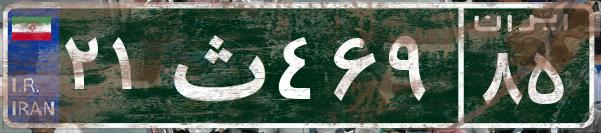1: (110, 28, 158, 105)
2: (57, 26, 110, 107)
4: (273, 28, 330, 110)
5: (525, 38, 570, 115)
6: (330, 28, 385, 110)
8: (475, 38, 525, 113)
9: (385, 28, 445, 110)
ث: (158, 15, 273, 115)
